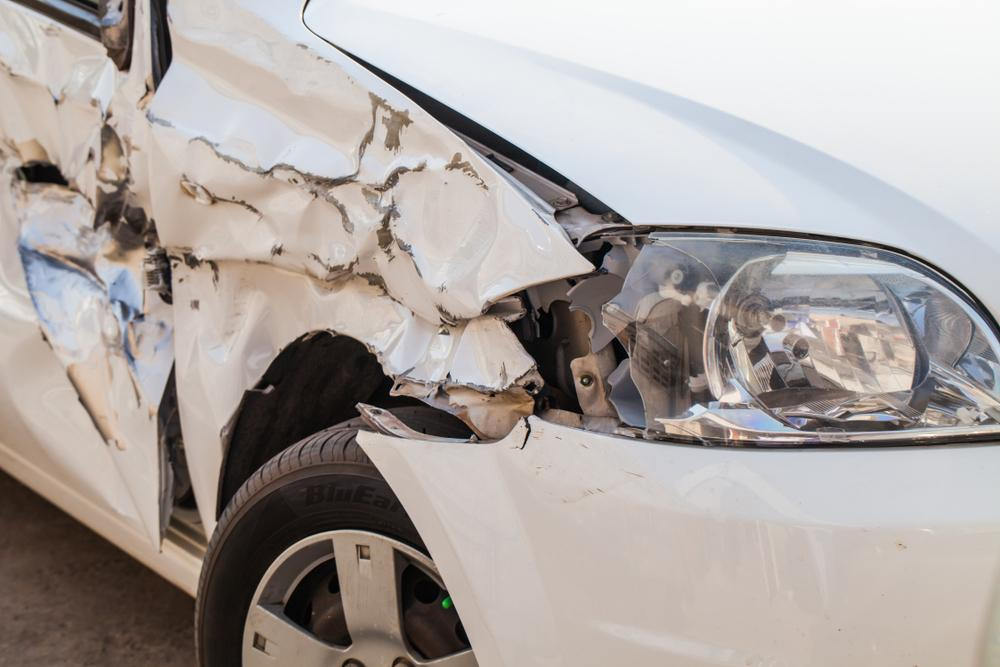crack: (10, 159, 97, 210), (509, 418, 532, 451)
dent: (138, 0, 549, 440), (0, 8, 176, 508)
lamp broken: (566, 229, 1000, 447)
